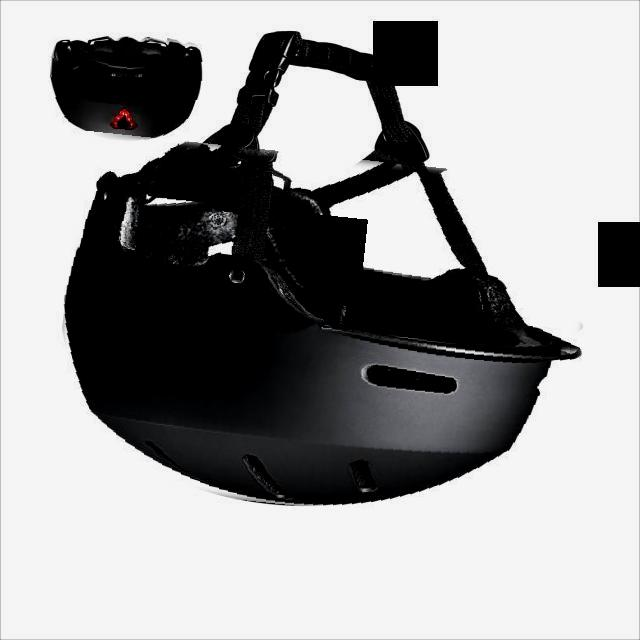helmet: (53, 144, 592, 521), (49, 34, 204, 144)
